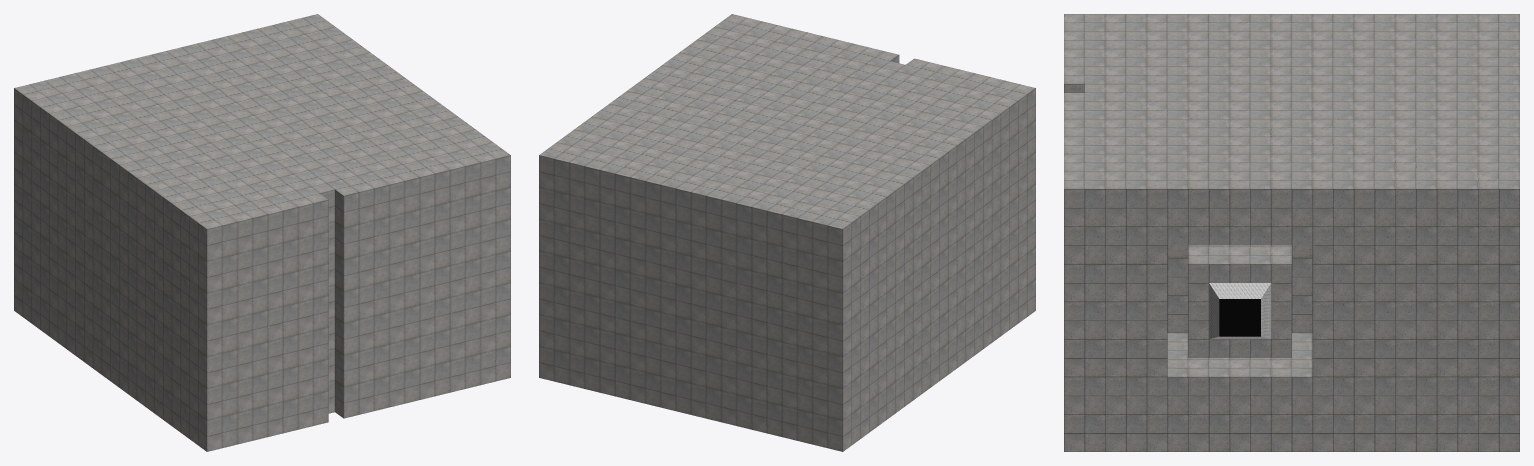
The model's file is PlayUpGrp4.dae.
3 renders of one model, left to right at view 1: azimuth 30°, elevation 25°; view 2: azimuth 150°, elevation 25°; view 3: azimuth 270°, elevation 25°, orthographic. The views are drawn at different scales.
Parts seen in each view (by area): view 1: mesh0%root%0%; view 2: mesh0%root%0%; view 3: mesh0%root%0%, mesh0%root%1%, mesh0%root%2%.
Part boxes in pixels (left/top/right/bottom): mesh0%root%0%: left=14, top=14, right=510, bottom=451; mesh0%root%0%: left=539, top=14, right=1035, bottom=451; mesh0%root%0%: left=1064, top=14, right=1519, bottom=451; mesh0%root%1%: left=1209, top=283, right=1271, bottom=339; mesh0%root%2%: left=1219, top=299, right=1260, bottom=336.
Size of the model in its own units: 20.75 by 14 by 22.
